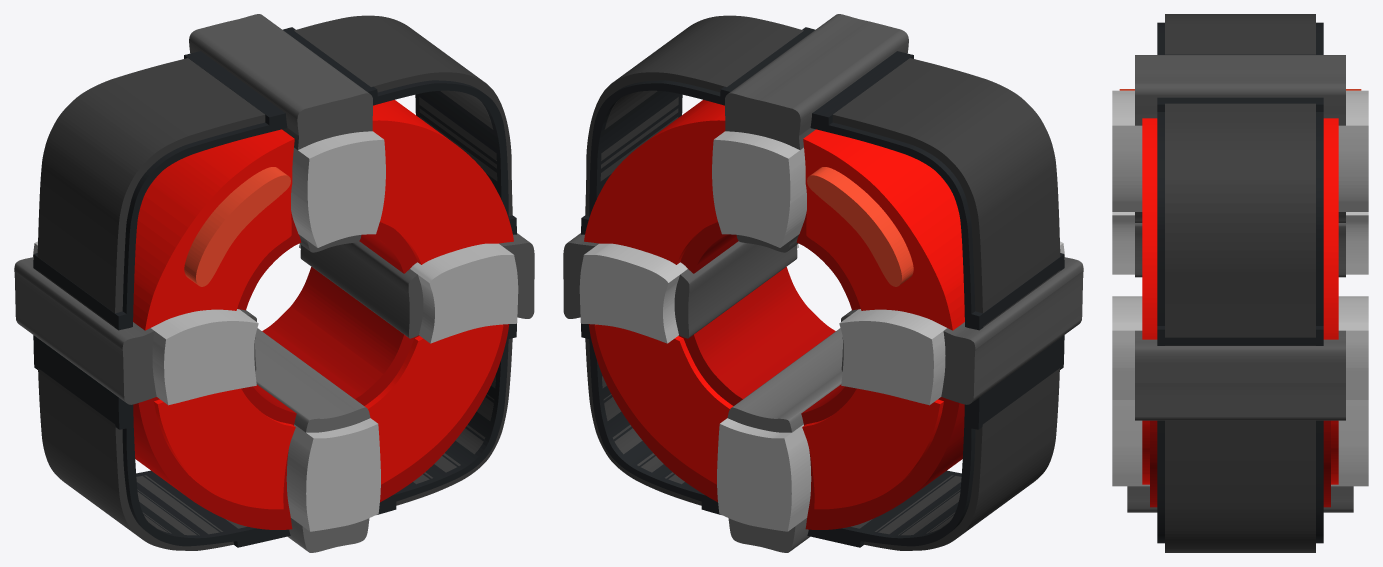
The picture shows the model from 3 angles, left to right: view 1: azimuth 30°, elevation 25°; view 2: azimuth 150°, elevation 25°; view 3: azimuth 270°, elevation 25°; orthographic projection. The views are drawn at different scales.
Visible parts, largest first — view 1: U+1F6DF_layer00_obj00, U+1F6DF_layer03_obj00, U+1F6DF_layer01_obj00, U+1F6DF_layer02_obj01, U+1F6DF_layer04_obj05, U+1F6DF_layer03_obj02, U+1F6DF_layer03_obj01, U+1F6DF_layer04_obj00, U+1F6DF_layer07_obj01, U+1F6DF_layer07_obj00, U+1F6DF_layer07_obj03, U+1F6DF_layer07_obj02 (+6 smaller); view 2: U+1F6DF_layer00_obj00, U+1F6DF_layer03_obj00, U+1F6DF_layer01_obj00, U+1F6DF_layer02_obj01, U+1F6DF_layer04_obj05, U+1F6DF_layer03_obj02, U+1F6DF_layer03_obj01, U+1F6DF_layer04_obj00, U+1F6DF_layer07_obj01, U+1F6DF_layer07_obj00, U+1F6DF_layer07_obj03, U+1F6DF_layer07_obj02 (+6 smaller); view 3: U+1F6DF_layer00_obj00, U+1F6DF_layer04_obj04, U+1F6DF_layer04_obj05, U+1F6DF_layer01_obj00, U+1F6DF_layer03_obj00, U+1F6DF_layer07_obj01, U+1F6DF_layer07_obj02, U+1F6DF_layer07_obj00, U+1F6DF_layer07_obj03, U+1F6DF_layer02_obj01, U+1F6DF_layer05_obj00, U+1F6DF_layer03_obj01 (+1 smaller).
Boxes of the visible parts, <box> form: U+1F6DF_layer00_obj00: <box>37,15,512,550</box>; U+1F6DF_layer03_obj00: <box>133,99,513,330</box>; U+1F6DF_layer01_obj00: <box>33,27,516,547</box>; U+1F6DF_layer02_obj01: <box>133,267,509,529</box>; U+1F6DF_layer04_obj05: <box>189,14,372,149</box>; U+1F6DF_layer03_obj02: <box>154,388,295,509</box>; U+1F6DF_layer03_obj01: <box>364,324,503,484</box>; U+1F6DF_layer04_obj00: <box>14,257,156,404</box>; U+1F6DF_layer07_obj01: <box>291,131,385,247</box>; U+1F6DF_layer07_obj00: <box>286,418,380,531</box>; U+1F6DF_layer07_obj03: <box>33,241,258,405</box>; U+1F6DF_layer07_obj02: <box>299,243,518,343</box>; U+1F6DF_layer00_obj00: <box>585,15,1060,550</box>; U+1F6DF_layer03_obj00: <box>584,99,964,330</box>; U+1F6DF_layer01_obj00: <box>581,27,1064,547</box>; U+1F6DF_layer02_obj01: <box>588,267,964,529</box>; U+1F6DF_layer04_obj05: <box>725,14,908,149</box>; U+1F6DF_layer03_obj02: <box>802,388,943,509</box>; U+1F6DF_layer03_obj01: <box>594,324,733,484</box>; U+1F6DF_layer04_obj00: <box>941,257,1083,404</box>; U+1F6DF_layer07_obj01: <box>712,131,806,247</box>; U+1F6DF_layer07_obj00: <box>717,418,811,531</box>; U+1F6DF_layer07_obj03: <box>839,241,1064,405</box>; U+1F6DF_layer07_obj02: <box>579,243,798,343</box>; U+1F6DF_layer00_obj00: <box>1165,14,1315,552</box>; U+1F6DF_layer04_obj04: <box>1135,330,1345,420</box>; U+1F6DF_layer04_obj05: <box>1135,55,1345,125</box>; U+1F6DF_layer01_obj00: <box>1157,22,1323,543</box>; U+1F6DF_layer03_obj00: <box>1142,118,1338,339</box>; U+1F6DF_layer07_obj01: <box>1112,90,1368,211</box>; U+1F6DF_layer07_obj02: <box>1112,296,1368,399</box>; U+1F6DF_layer07_obj00: <box>1112,400,1368,486</box>; U+1F6DF_layer07_obj03: <box>1112,212,1368,274</box>; U+1F6DF_layer02_obj01: <box>1150,420,1330,507</box>; U+1F6DF_layer05_obj00: <box>1127,486,1353,512</box>; U+1F6DF_layer03_obj01: <box>1142,420,1338,484</box>.
Bounding box in the file's own units: 0.3073 × 0.3165 × 0.17.
